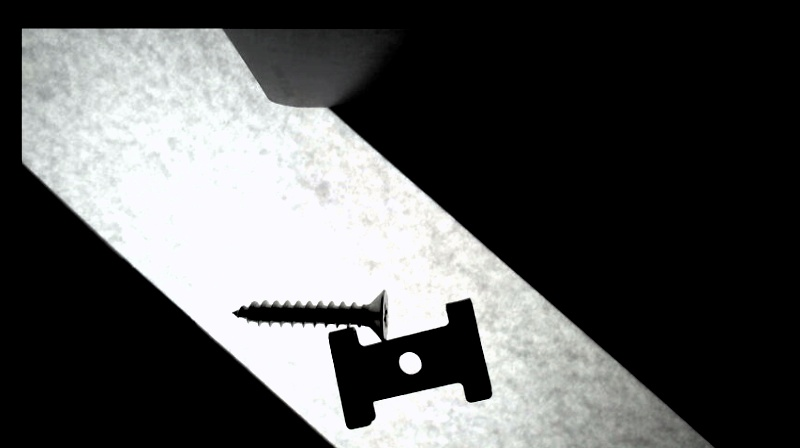O002: (328, 295, 492, 430)
S001: (229, 289, 390, 342)
